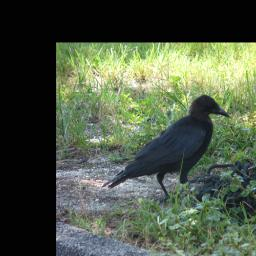Crow: (101, 94, 230, 204)
